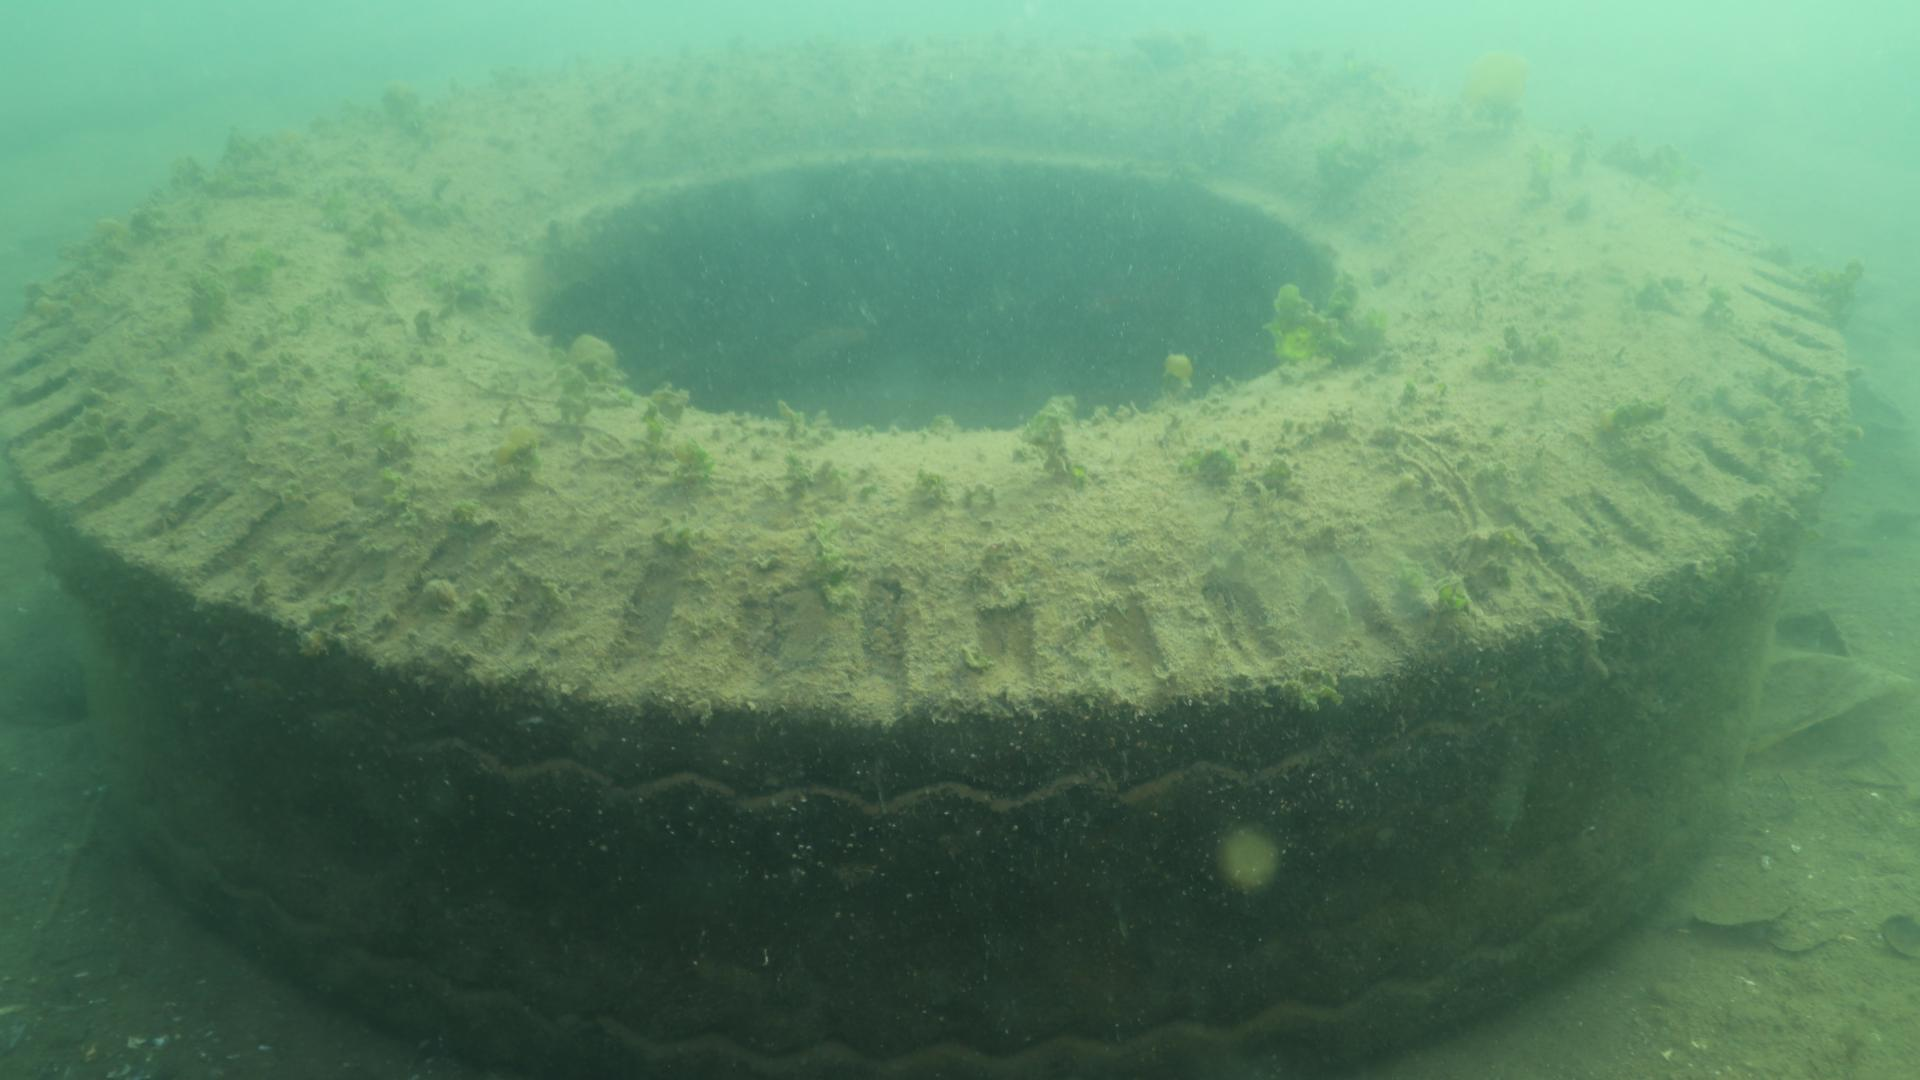tire: (0, 36, 1851, 1080)
